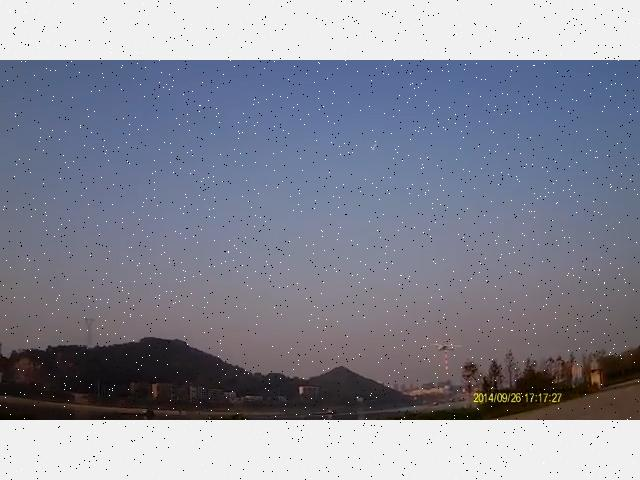Anti-Drone: (362, 133, 390, 164)
